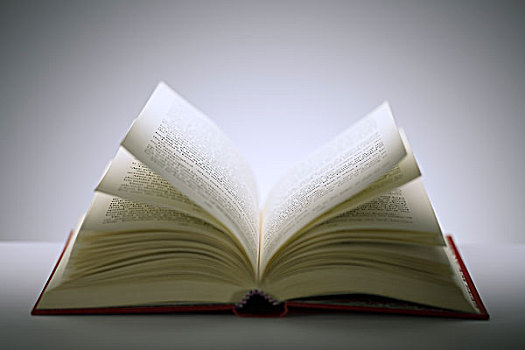book: (29, 77, 494, 322)
